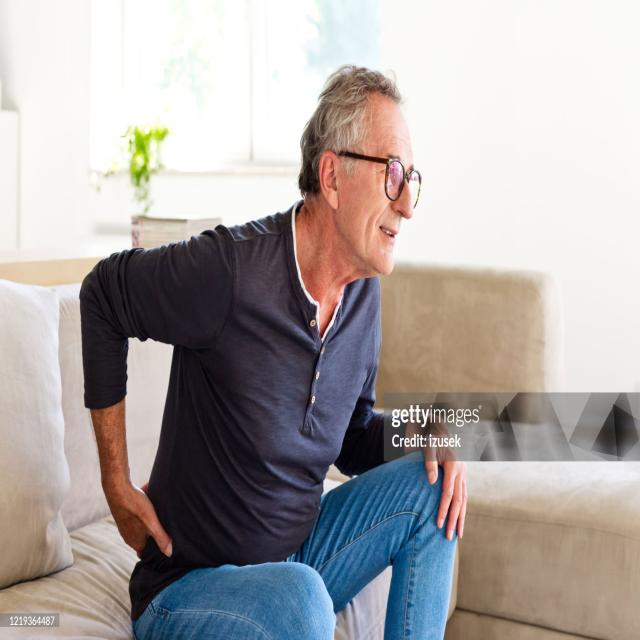idoso sentado: (87, 65, 459, 640)
